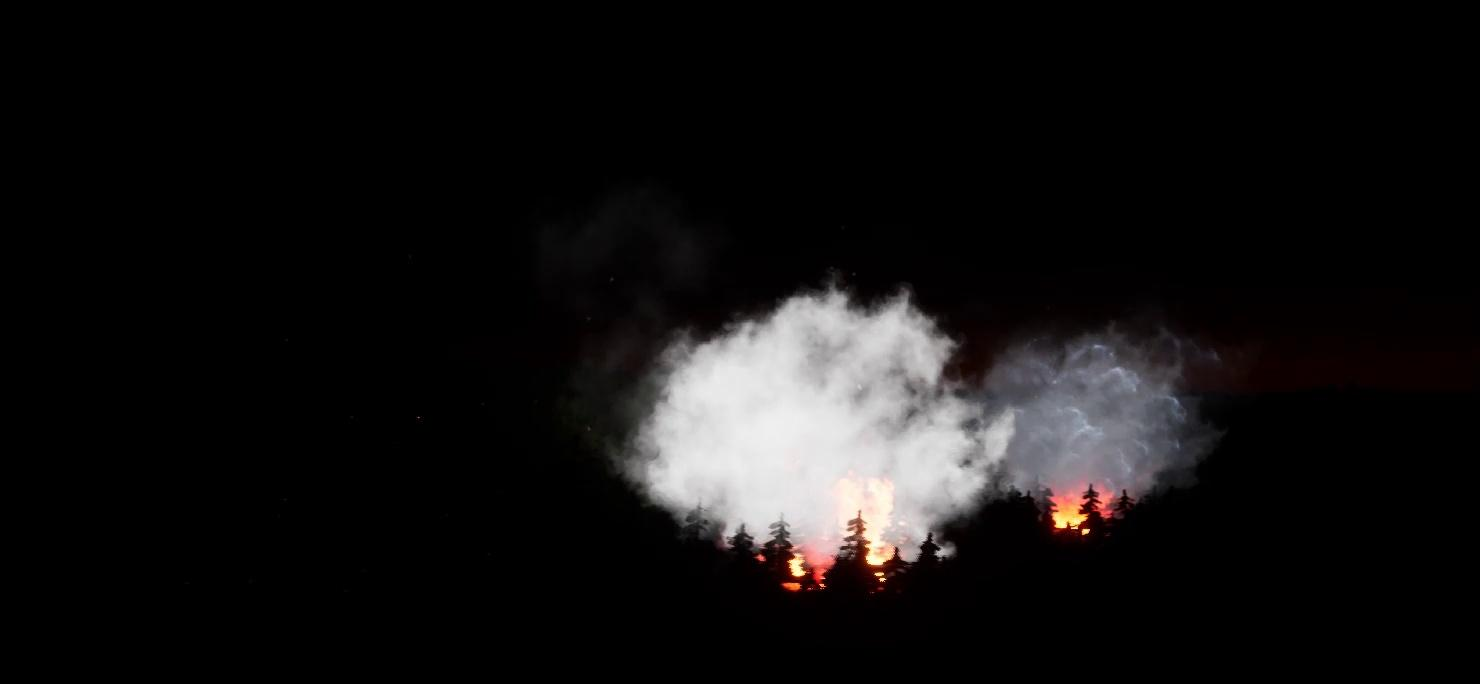fire: (768, 468, 924, 601), (1042, 488, 1122, 532)
smoke: (609, 288, 1217, 550)
